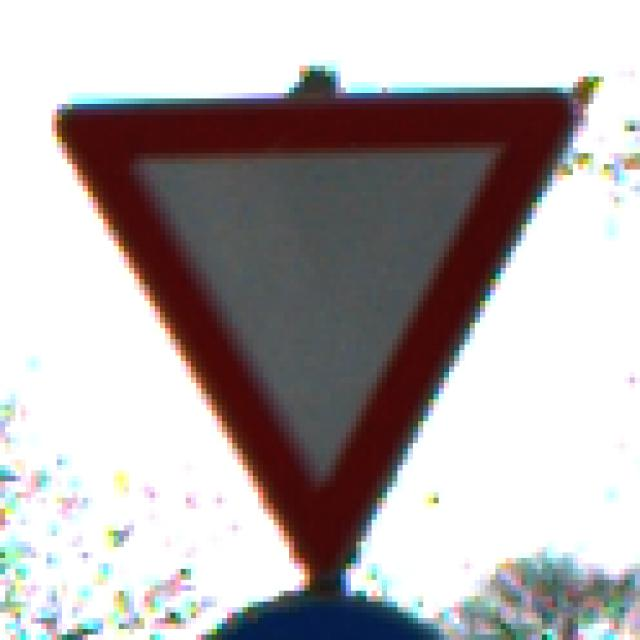Give Way: (53, 61, 590, 581)
